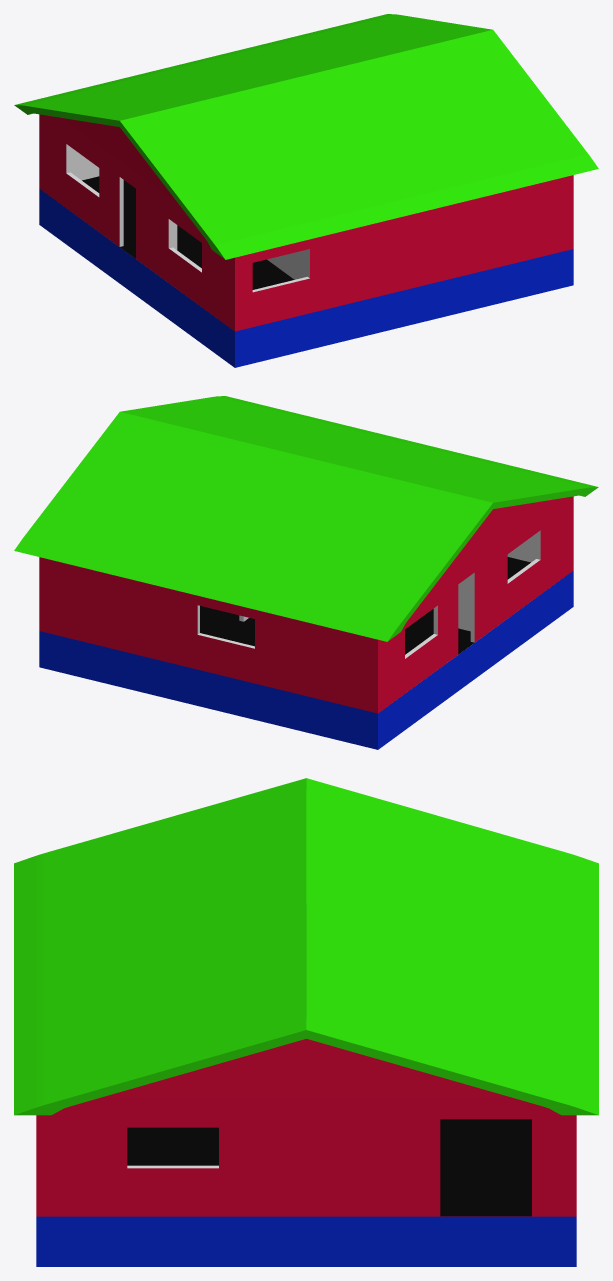
The model's file is Cabin_Floor_walls.glb.
3 views of the same model, one above another, from view 1: azimuth 30°, elevation 25°; view 2: azimuth 150°, elevation 25°; view 3: azimuth 270°, elevation 25° (orthographic). The views are drawn at different scales.
Parts seen in each view (by area): view 1: Floor/walls; view 2: Floor/walls; view 3: Floor/walls.
Boxes of the visible parts, bbox=[...] form: Floor/walls: bbox=[14, 14, 598, 367]; Floor/walls: bbox=[14, 396, 598, 749]; Floor/walls: bbox=[14, 778, 598, 1266].
Bounding box in the file's own units: 21.51 × 9.9 × 21.11.
